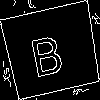B: (26, 25, 66, 78)
